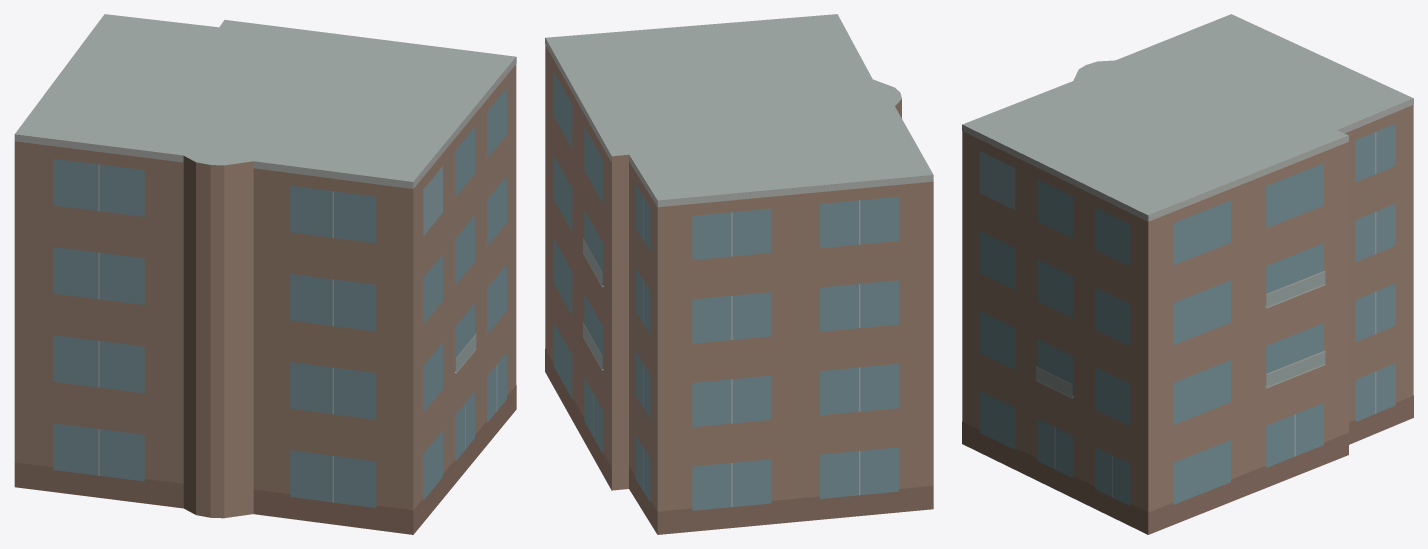
The model's file is survey-upis-32778279.glb.
3 views of the same model, side by side, from view 1: azimuth 30°, elevation 25°; view 2: azimuth 150°, elevation 25°; view 3: azimuth 270°, elevation 25° (orthographic). The views are drawn at different scales.
Visible parts, largest first — view 1: survey-upis-32778279.tmp; view 2: survey-upis-32778279.tmp; view 3: survey-upis-32778279.tmp.
Boxes of the visible parts, box(x1,y1,x2,y2) form: survey-upis-32778279.tmp: box(14, 14, 516, 534); survey-upis-32778279.tmp: box(545, 14, 933, 534); survey-upis-32778279.tmp: box(962, 14, 1413, 534).
Bounding box in the file's own units: 16.5 × 12.2 × 15.63.
